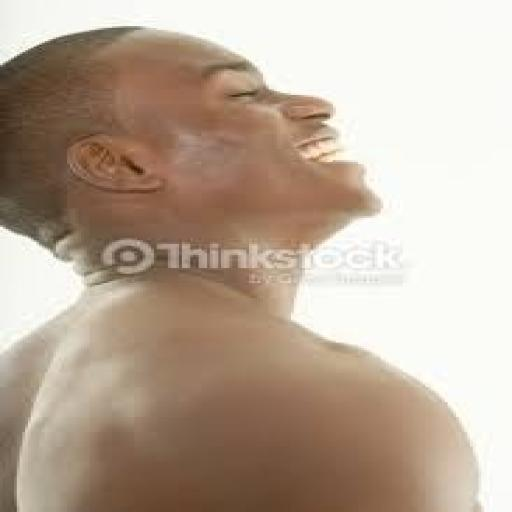laughing: (0, 21, 490, 510)
